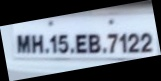character: (16, 33, 30, 53), (140, 33, 153, 53), (88, 33, 100, 53), (31, 34, 43, 53), (57, 34, 69, 53), (75, 34, 87, 53), (127, 33, 139, 52), (107, 33, 117, 52), (118, 32, 126, 54), (50, 34, 57, 54)
